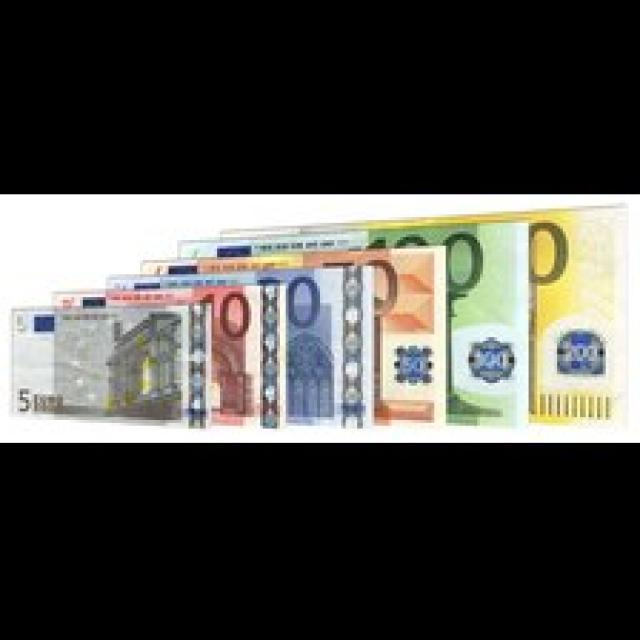banknote: (172, 222, 526, 427), (138, 258, 442, 422), (104, 272, 343, 422), (54, 287, 280, 420), (9, 306, 214, 432), (530, 200, 632, 438), (9, 384, 36, 414)
